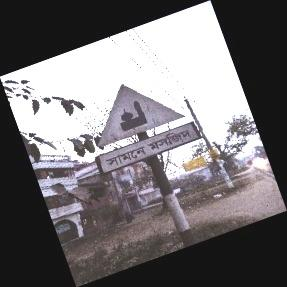Mosque in front: (94, 85, 197, 180)
